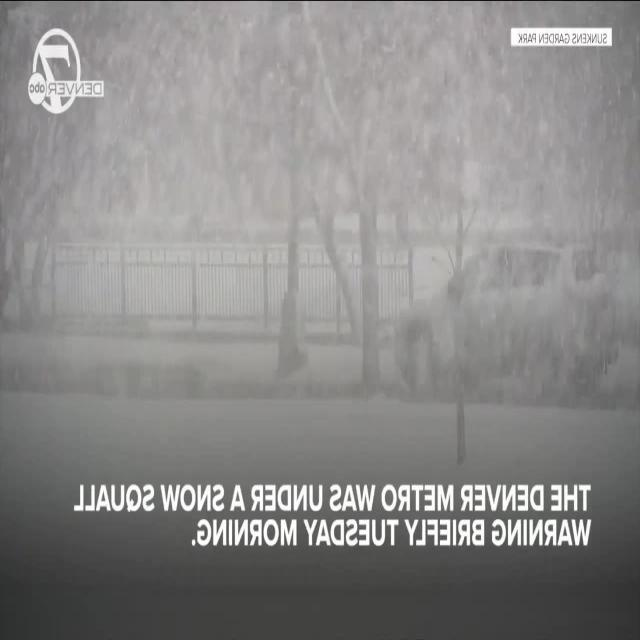Car: (396, 235, 624, 398)
